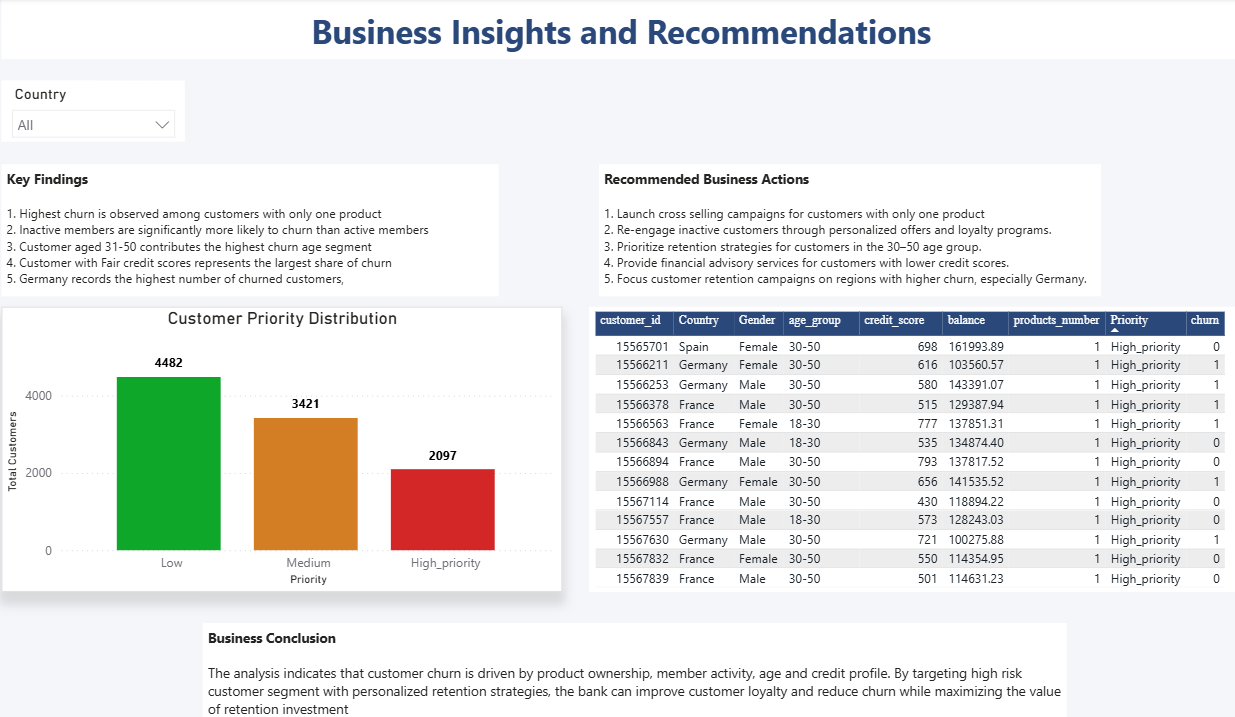

The page's visual inventory and layout, read from the dashboard file:
{"tool":"powerbi","page":{"name":"Busines Insights and recommendations","canvas":[1280,720],"ordinal":2},"visuals":[{"type":"textbox","box":[22.4,162.7,488.1,129.9],"z":0},{"type":"textbox","box":[609,162.7,492.5,129.9],"z":1000},{"type":"columnChart","title":"Customer Priority Distribution","fields":{"Category":["Bank Churn.priority"],"Y":["Bank Churn.Total Customers"]},"box":[22.4,303,550,280],"z":2000},{"type":"tableEx","fields":{"Values":["Bank Churn.customer_id","Bank Churn.Country","Bank Churn.Gender","Bank Churn.age_group","Bank Churn.credit_score","Bank Churn.balance","Bank Churn.products_number","Bank Churn.Priority","Bank Churn.churn"]},"box":[598.5,303,650,280],"z":3000},{"type":"slicer","fields":{"Values":["Bank Churn.Country"]},"box":[21.7,81.5,180,60],"z":4000},{"type":"textbox","box":[219.4,613.4,847.8,106],"z":6000},{"type":"textbox","box":[22.4,0,1226.9,59.7],"z":7000}]}

Visuals, with their boxes on the page's 1280x720 design canvas (x1, y1, x2, y2). These are canvas units, not pixel positions in the 1235x717 screenshot, which may show the page scaled, cropped or inside an application window:
textbox: <region>22, 163, 510, 293</region>
textbox: <region>609, 163, 1102, 293</region>
"Customer Priority Distribution" columnChart: <region>22, 303, 572, 583</region>
tableEx - Bank Churn.customer_id x Bank Churn.Country: <region>598, 303, 1248, 583</region>
slicer - Bank Churn.Country: <region>22, 82, 202, 142</region>
textbox: <region>219, 613, 1067, 719</region>
textbox: <region>22, 0, 1249, 60</region>
